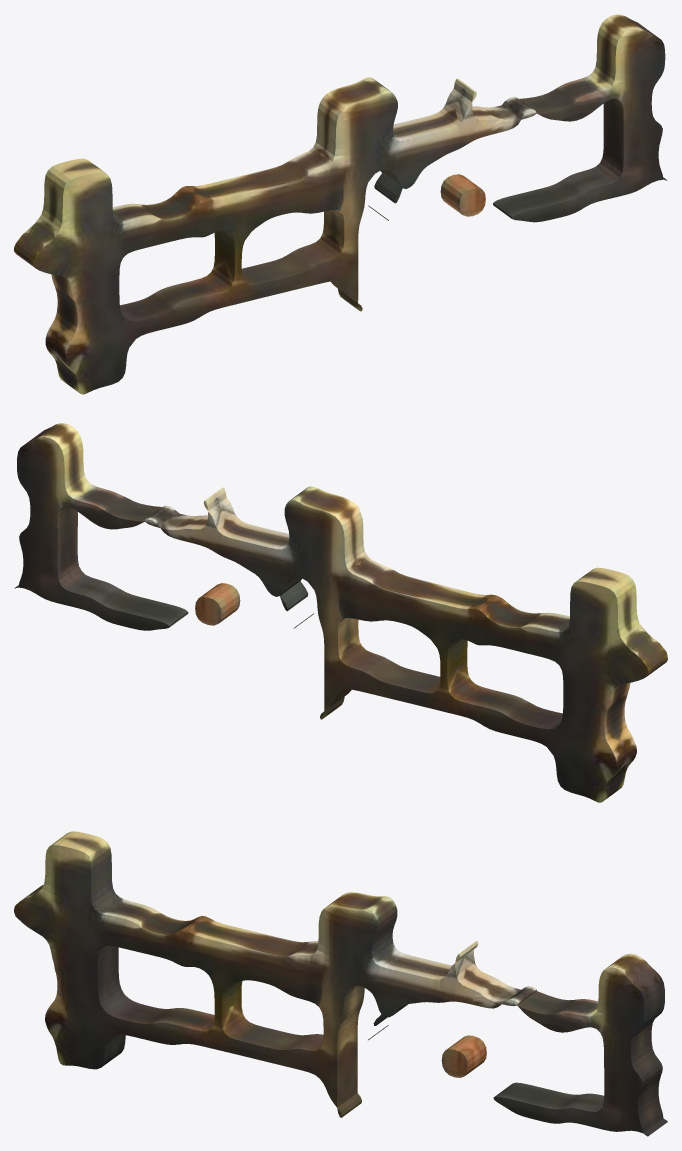
The model's file is fence_high.glb.
3 renders of one model, top to bottom at view 1: azimuth 30°, elevation 25°; view 2: azimuth 150°, elevation 25°; view 3: azimuth 330°, elevation 25°, orthographic.
Parts seen in each view (by area): view 1: geometry_0; view 2: geometry_0; view 3: geometry_0.
Part boxes in pixels (bbox=[...]): geometry_0: bbox=[14, 14, 667, 394]; geometry_0: bbox=[14, 423, 667, 802]; geometry_0: bbox=[14, 831, 667, 1136].
Bounding box in the file's own units: 3.48 × 1.21 × 0.2043.
1 material, 1 textured.
